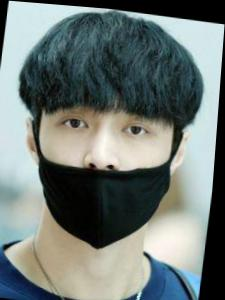WRONG: (29, 88, 179, 244)
